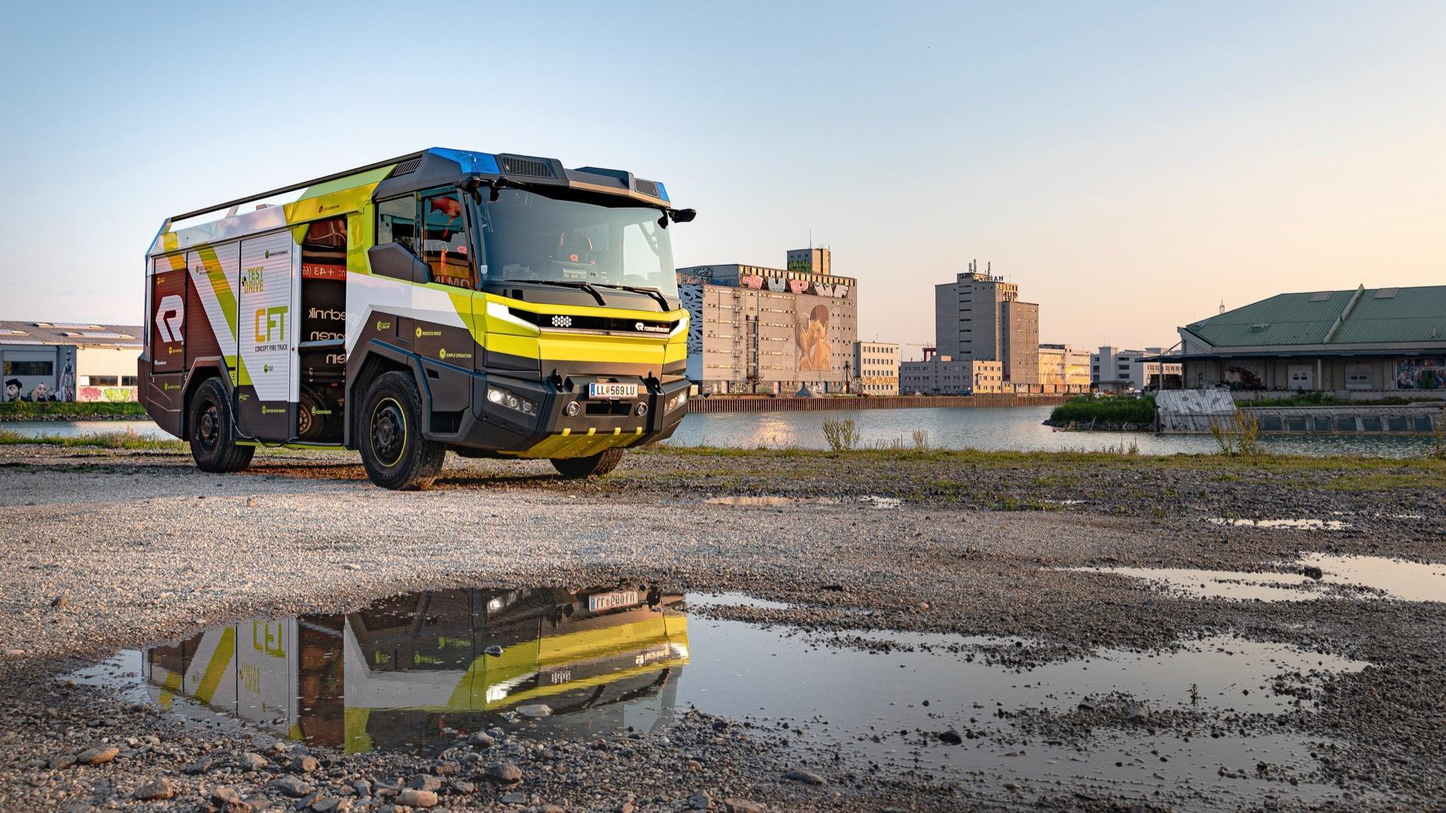Bus: (134, 150, 698, 494)
